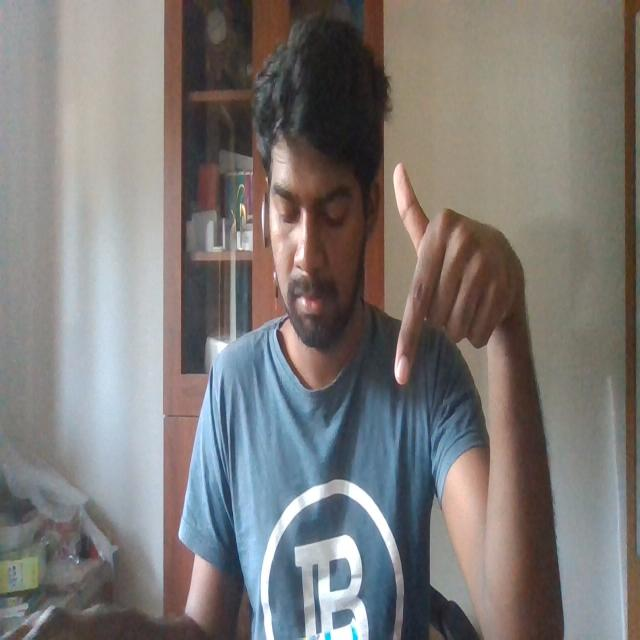Yes: (382, 143, 534, 420)
